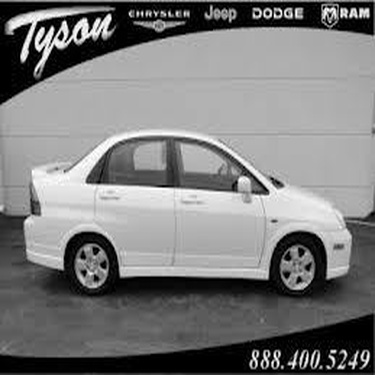car: (19, 122, 351, 294)
